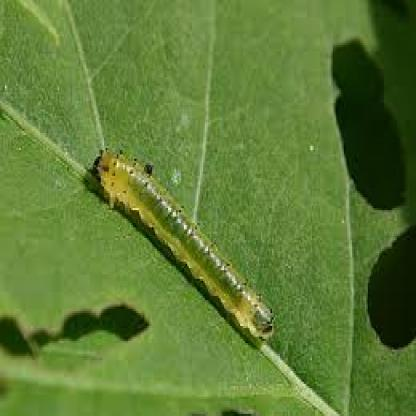sawfly: (87, 140, 280, 340)
